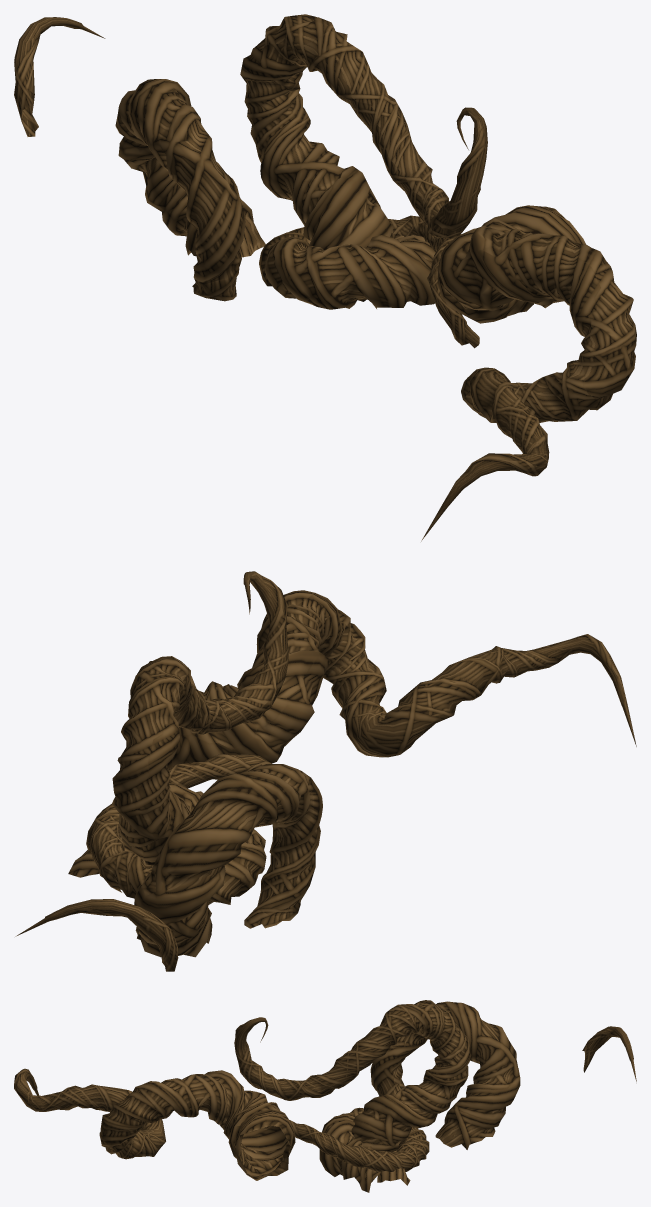
File: Roots_01.fbx
3 views of the same model, one above another, from view 1: azimuth 30°, elevation 25°; view 2: azimuth 150°, elevation 25°; view 3: azimuth 270°, elevation 25° (orthographic). The views are drawn at different scales.
Parts seen in each view (by area): view 1: Roots_01; view 2: Roots_01; view 3: Roots_01.
Boxes of the visible parts, <box> form: Roots_01: <box>14,14,636,541</box>; Roots_01: <box>15,571,636,971</box>; Roots_01: <box>14,1000,636,1192</box>.
Size of the model in its own units: 575 by 426 by 1496.
